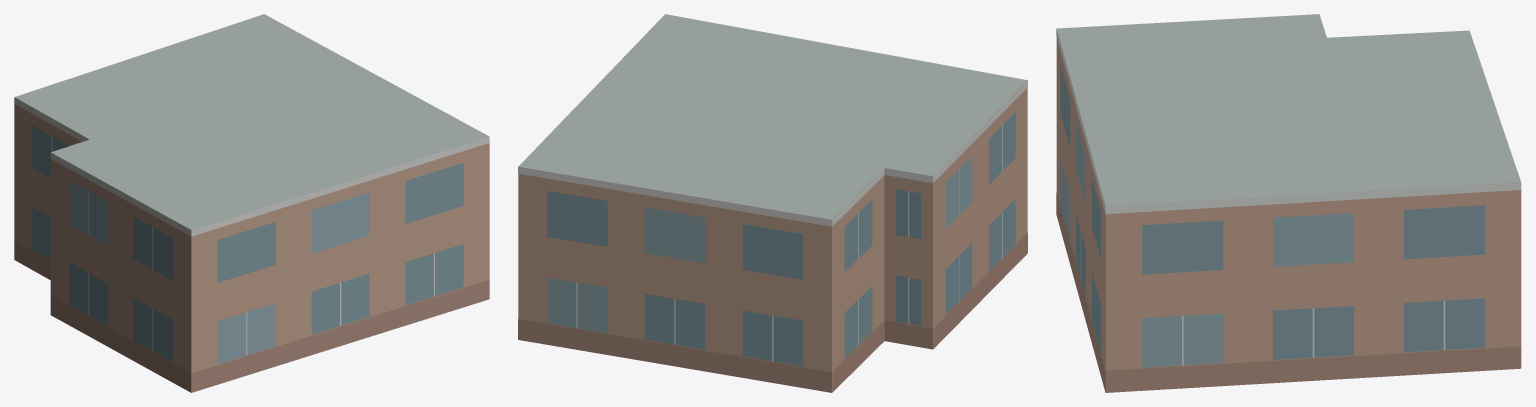
Rendered from survey-upis-32778929.glb.
The picture shows the model from 3 angles, left to right: view 1: azimuth 30°, elevation 25°; view 2: azimuth 150°, elevation 25°; view 3: azimuth 270°, elevation 25°; orthographic projection. The views are drawn at different scales.
Visible parts, largest first — view 1: survey-upis-32778929.tmp; view 2: survey-upis-32778929.tmp; view 3: survey-upis-32778929.tmp.
Boxes of the visible parts, x1=… form: survey-upis-32778929.tmp: x1=14, y1=14, x2=489, y2=392; survey-upis-32778929.tmp: x1=518, y1=14, x2=1027, y2=392; survey-upis-32778929.tmp: x1=1056, y1=14, x2=1521, y2=392.
Bounding box in the file's own units: 13.56 × 6.1 × 13.82.
